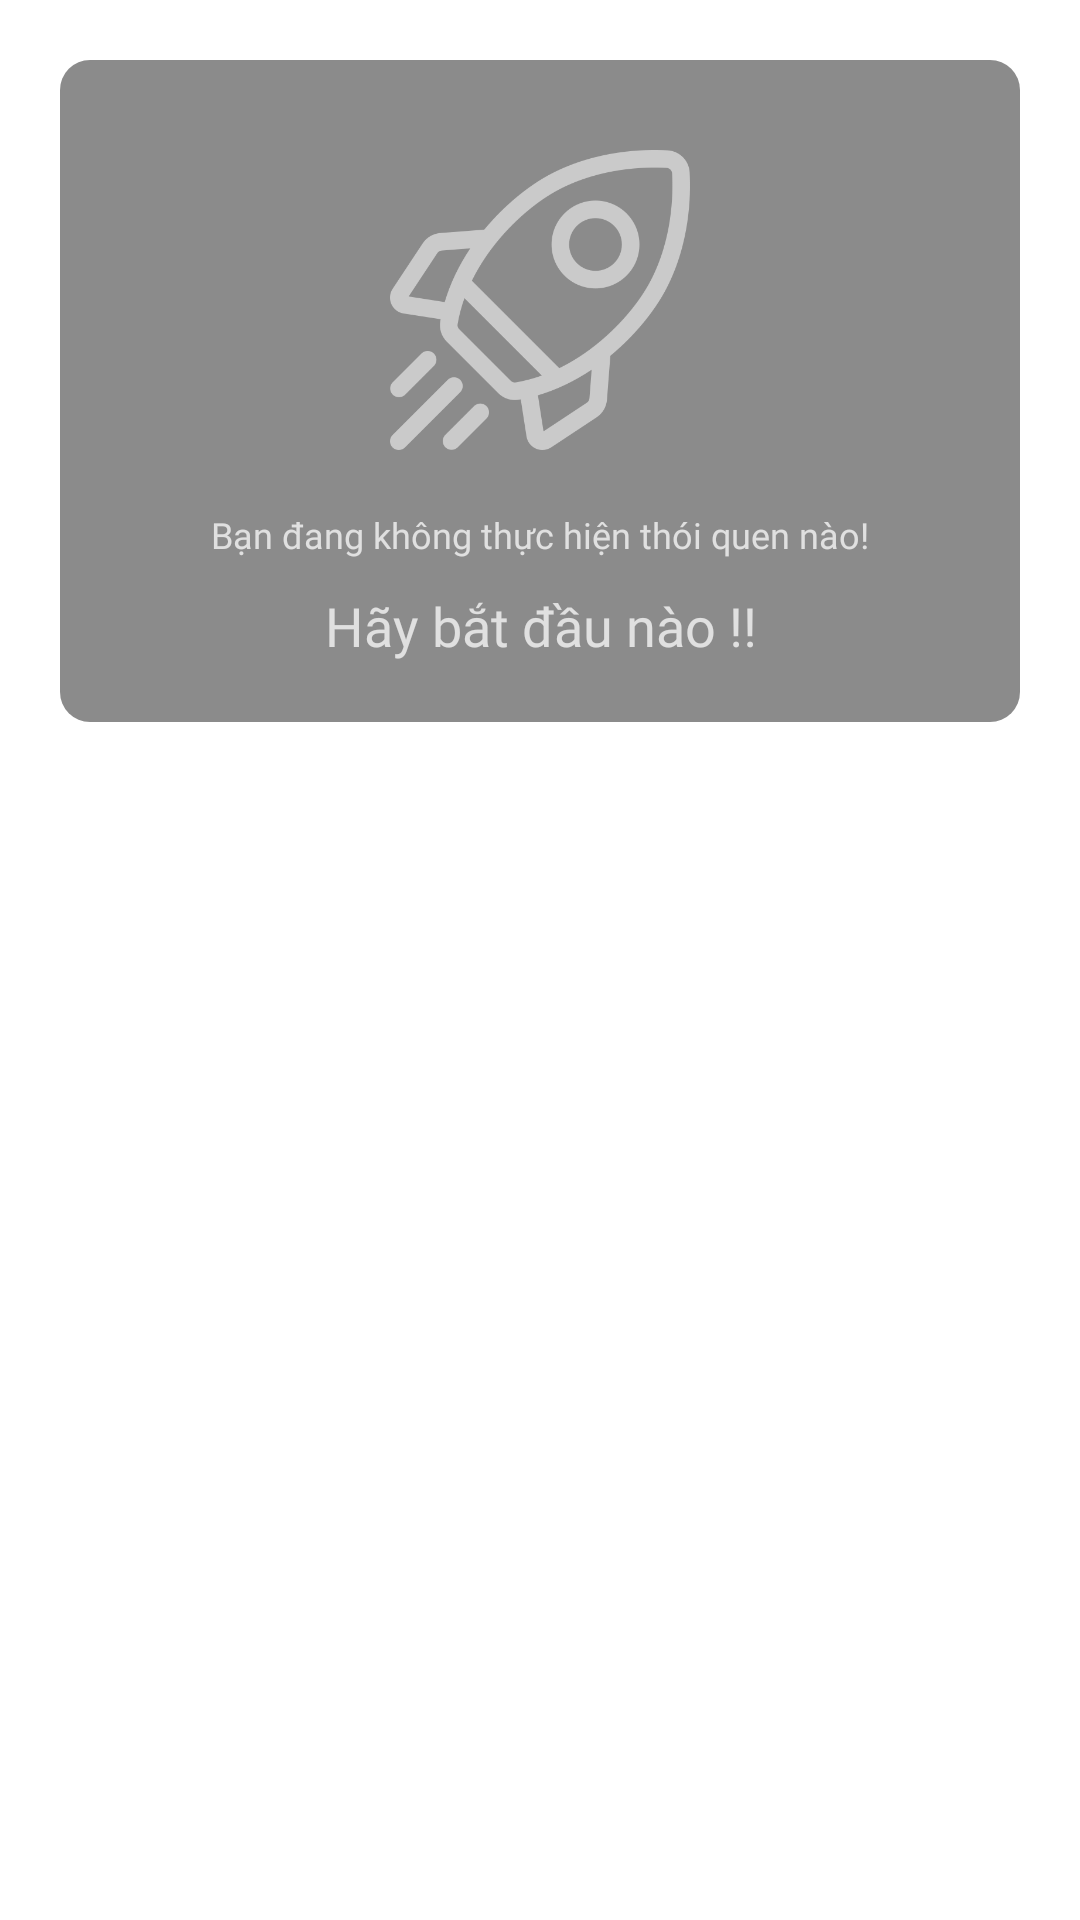

Icons on this 1080×1920 Android screen, each with its box as (x1, y1, x2, y2):
fly: (390, 150, 690, 450)
